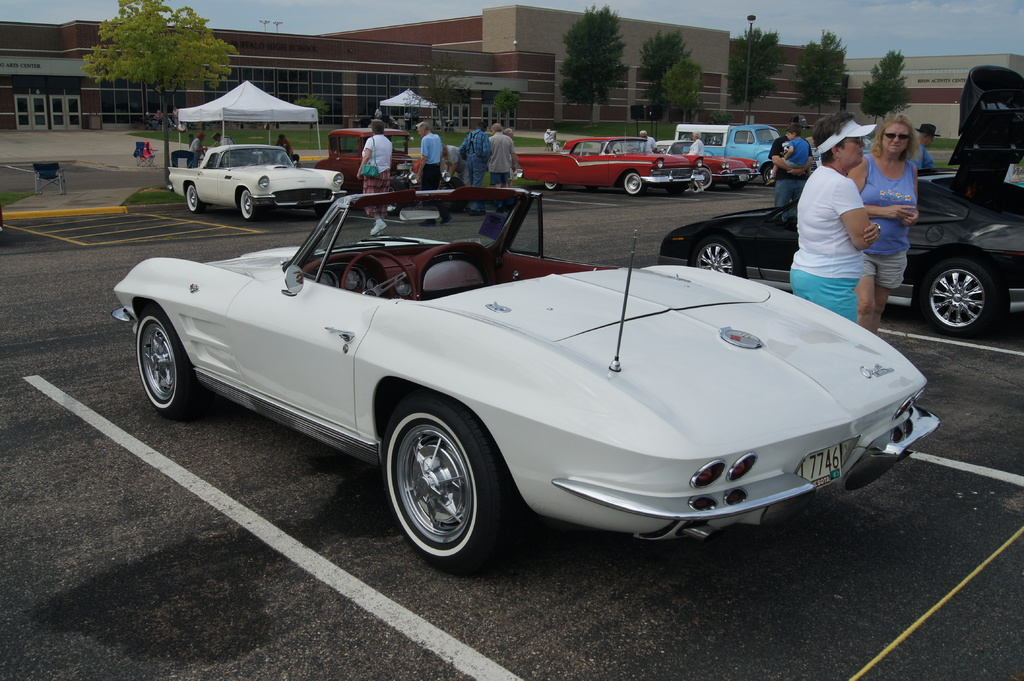Car: (120, 177, 942, 583), (663, 193, 1023, 339), (914, 69, 1023, 226), (166, 135, 348, 221), (510, 131, 705, 200)
